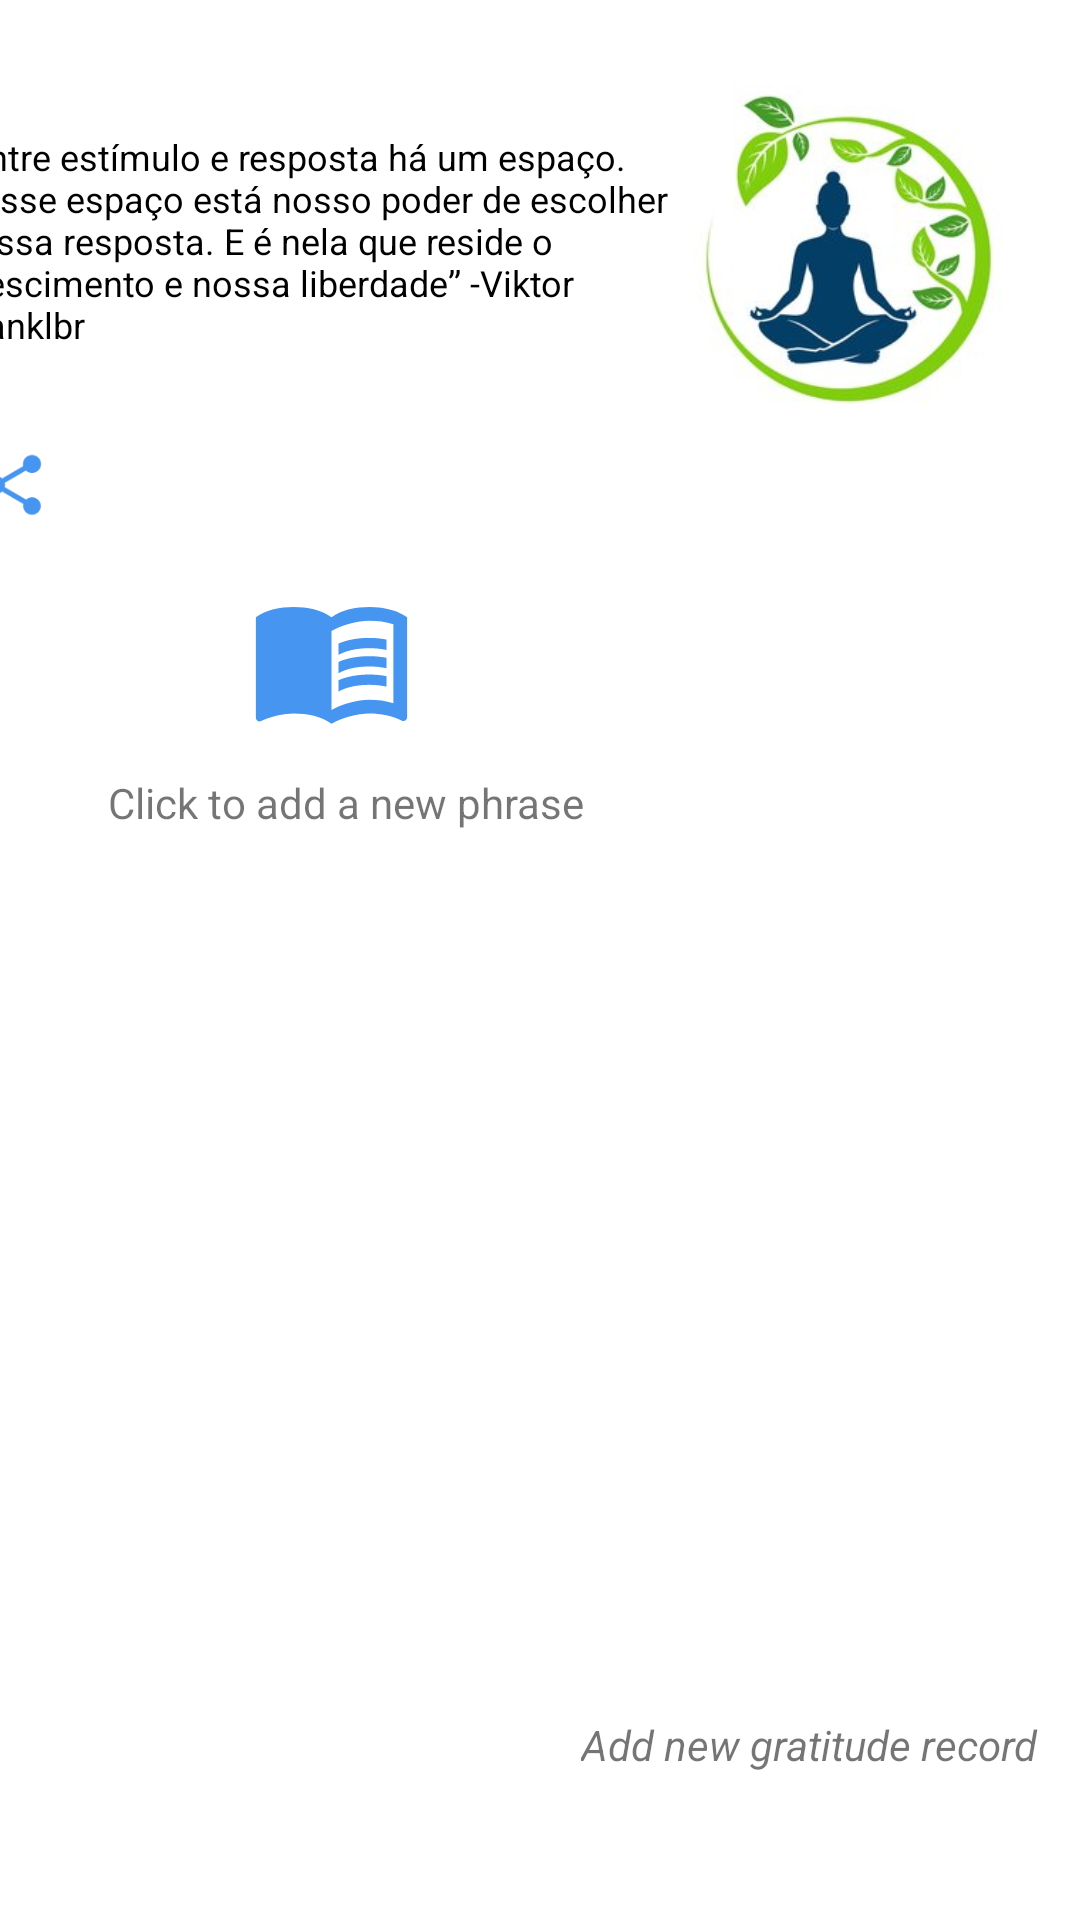

Icon click points for this 1080x1920 phone screenshot, format point (x, y):
book: point (331, 665)
